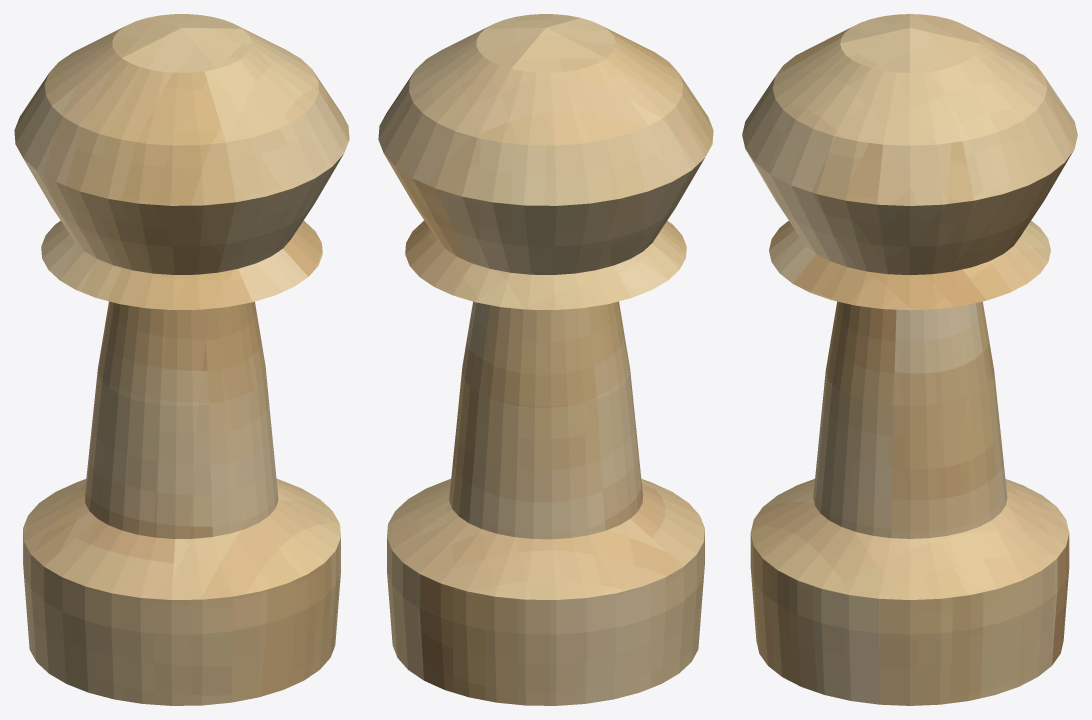
File: pawn.fbx
3 renders of one model, left to right at view 1: azimuth 30°, elevation 25°; view 2: azimuth 150°, elevation 25°; view 3: azimuth 270°, elevation 25°, orthographic.
Visible parts, largest first — view 1: Pawn; view 2: Pawn; view 3: Pawn.
Boxes of the visible parts, x1=… form: Pawn: x1=14, y1=14, x2=349, y2=705; Pawn: x1=378, y1=14, x2=713, y2=705; Pawn: x1=742, y1=14, x2=1077, y2=705.
Size of the model in its own units: 299 by 602 by 299.
